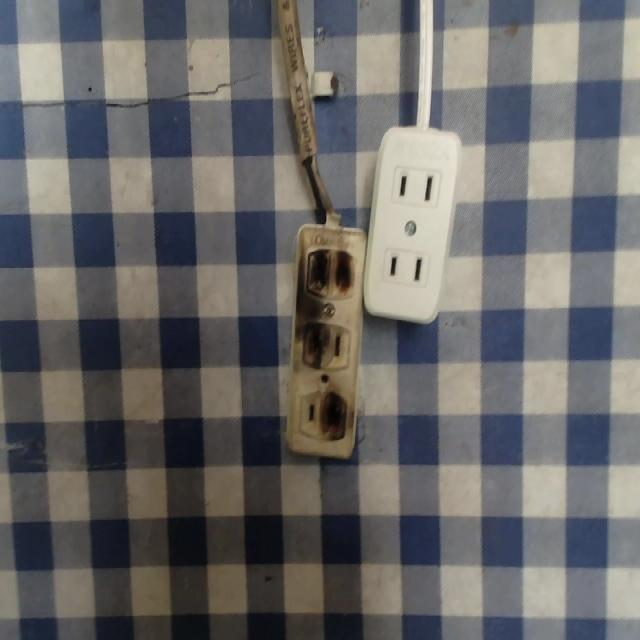-: (304, 244, 357, 301), (295, 318, 329, 370), (316, 389, 348, 443)
